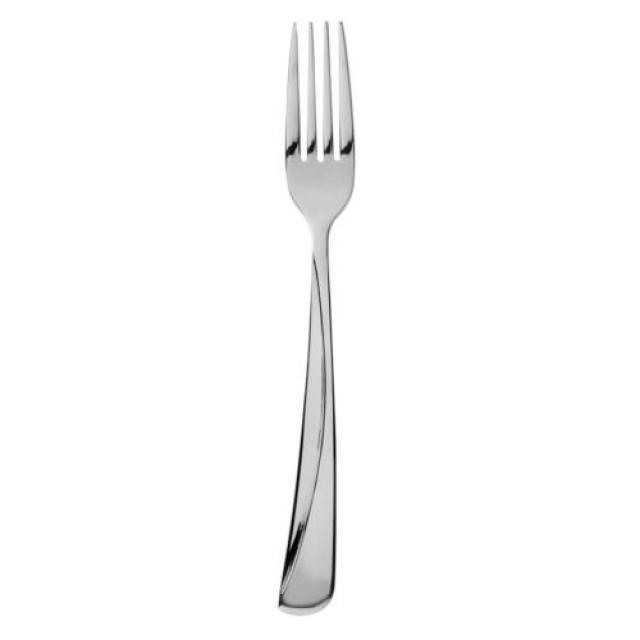spoon: (280, 22, 355, 608)
